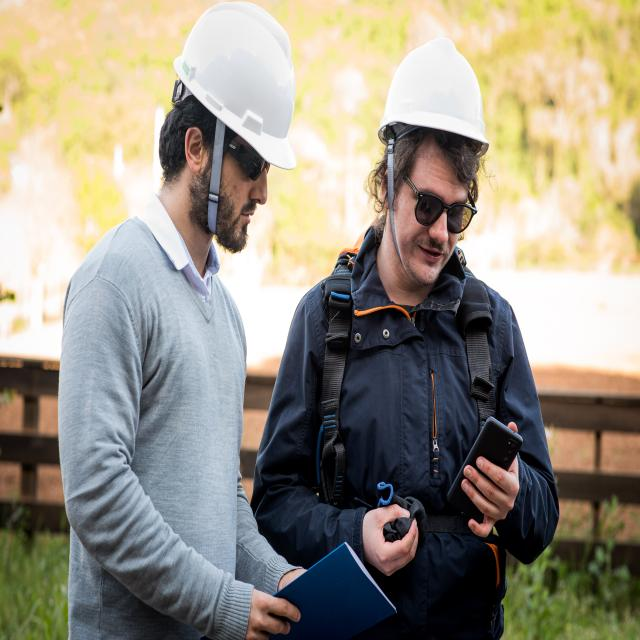capacete: (172, 1, 298, 171), (376, 36, 490, 158)
corda de vida: (306, 243, 510, 640)
